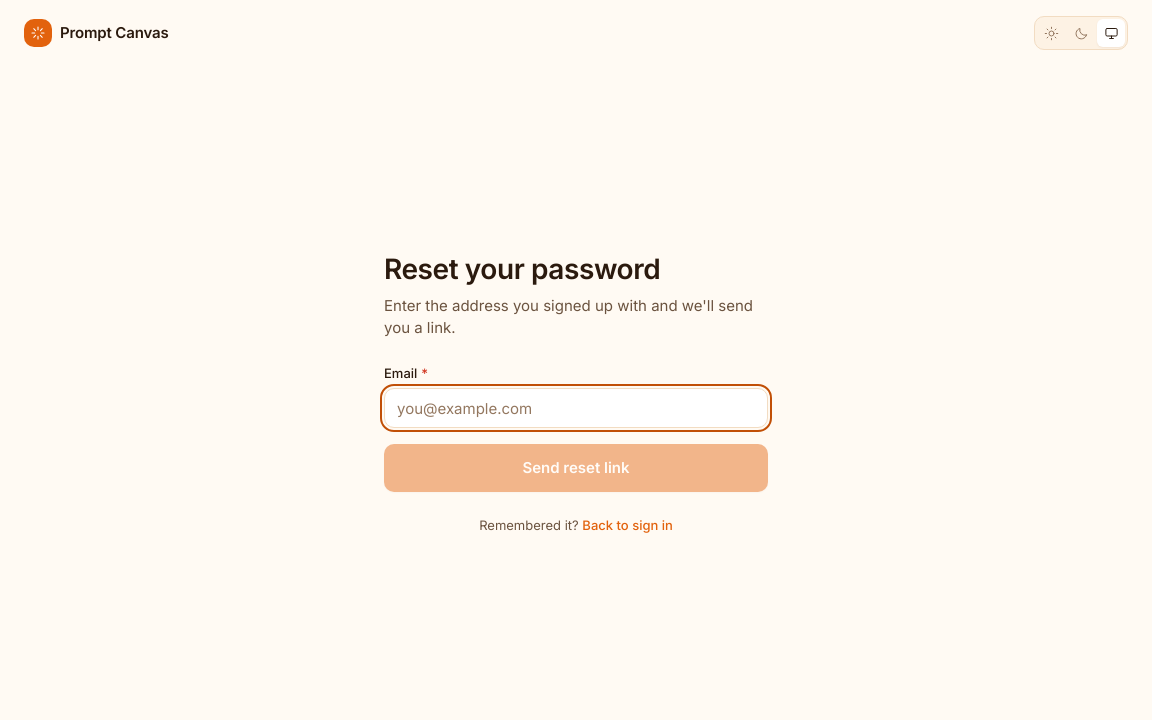
Test case: requesting a reset link › shows the same confirmation regardless of whether the account exists
Step 1. Type "nobody@example.com" into the field labelled "Email*" → x=576, y=408, box [384, 388, 768, 428]
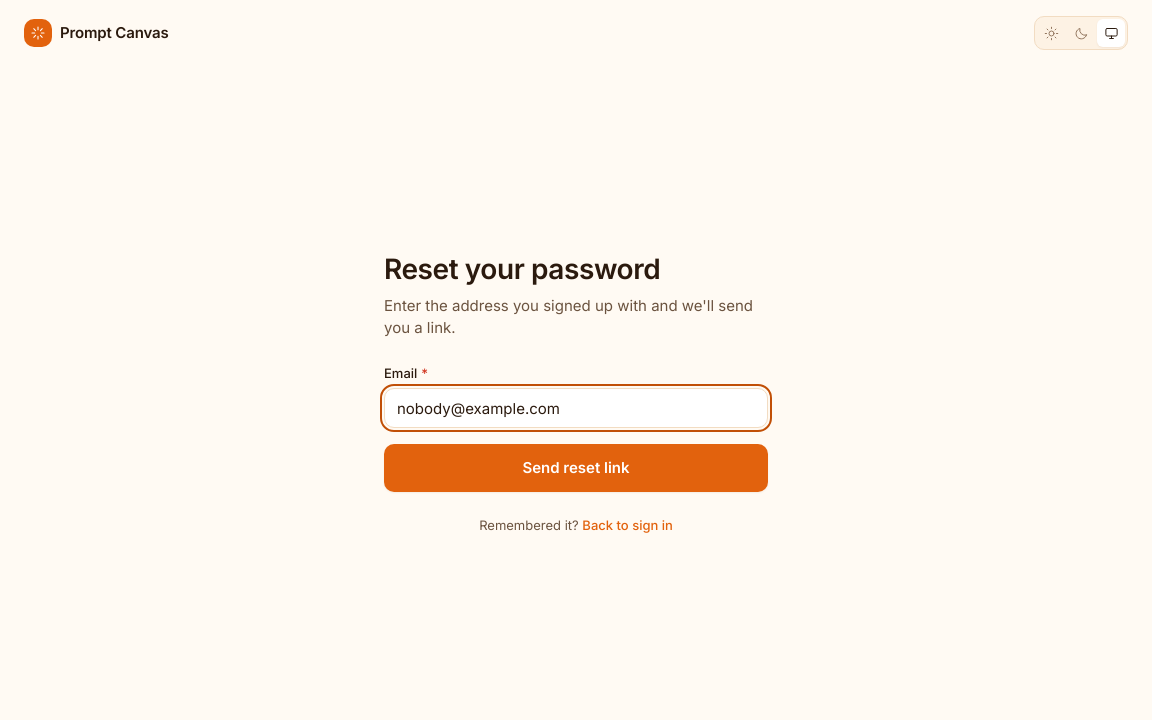
Step 2. Click the button "Send reset link" → x=576, y=468, box [384, 444, 768, 492]
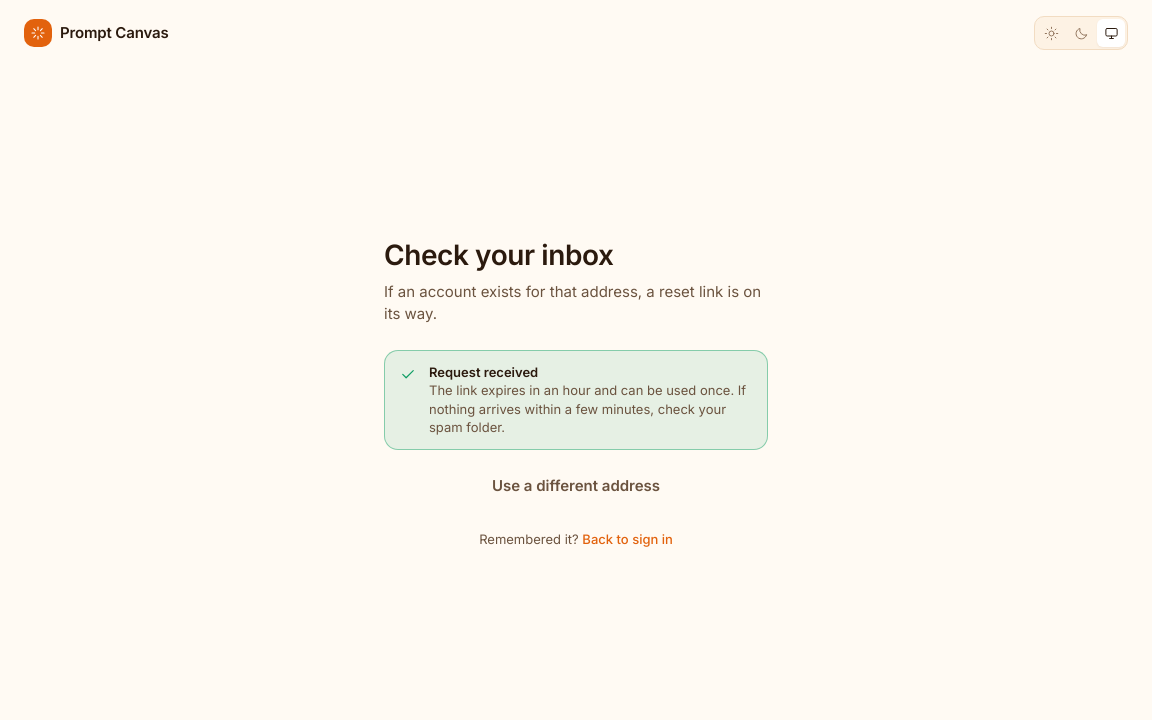
Expected: the text "If an account exists" is shown, [384, 282, 761, 323]
